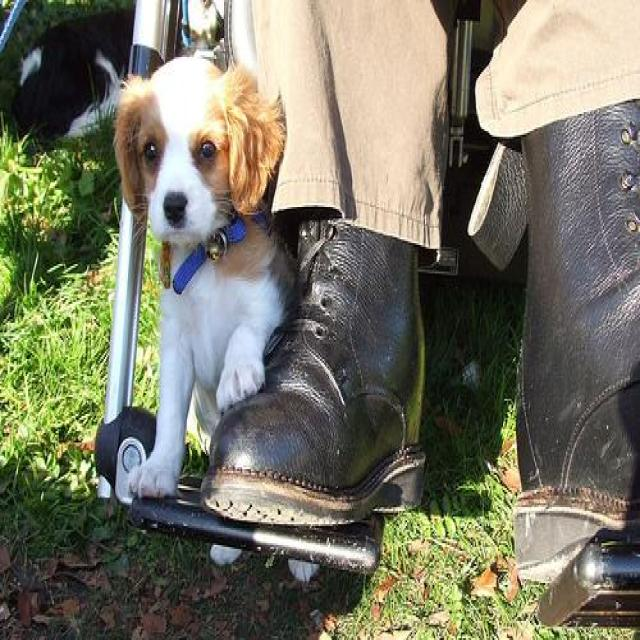blenheim_spaniel: (114, 51, 289, 498)
